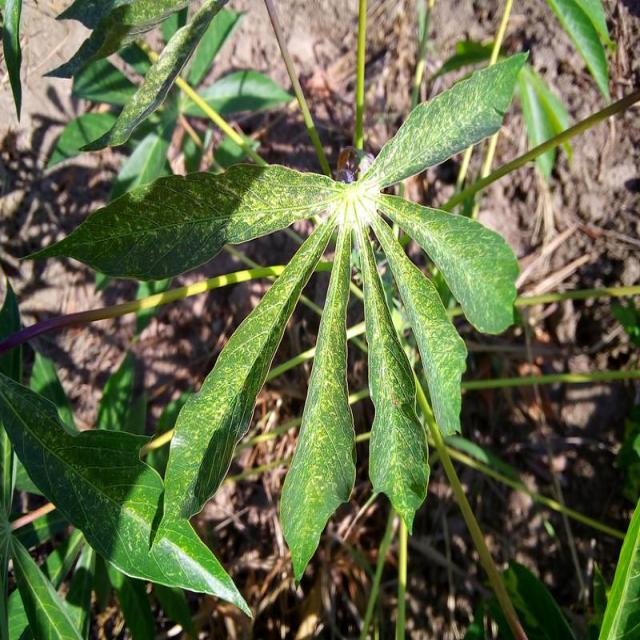cassava leaf: (19, 46, 532, 588), (2, 369, 255, 620)
